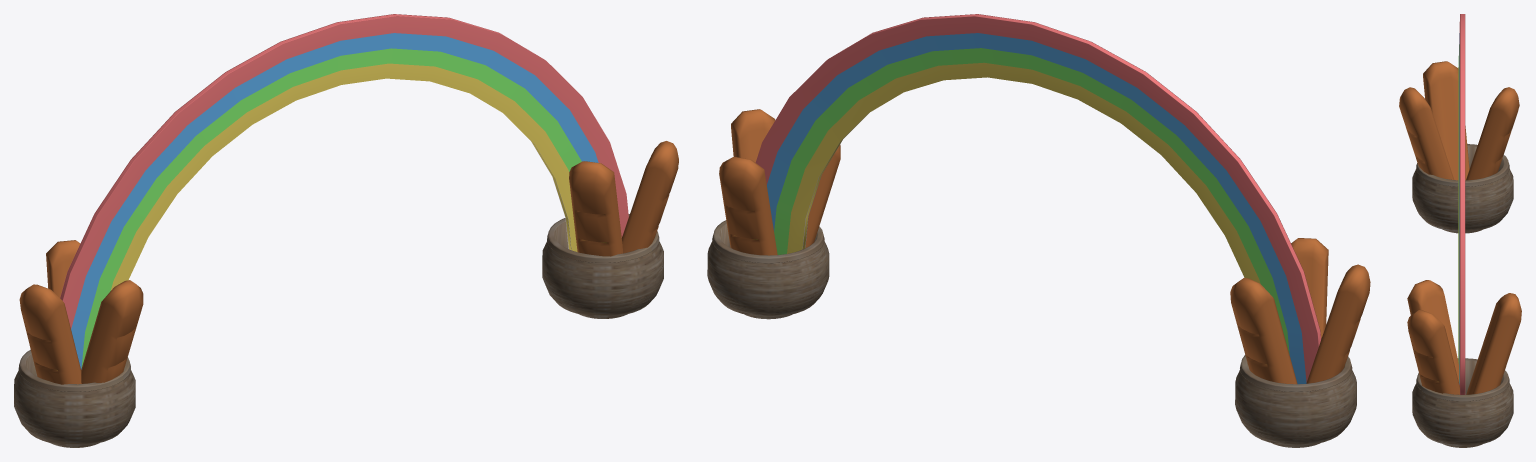
The model's file is gapura low poly.fbx.
The picture shows the model from 3 angles, left to right: view 1: azimuth 30°, elevation 25°; view 2: azimuth 150°, elevation 25°; view 3: azimuth 270°, elevation 25°; orthographic projection. The views are drawn at different scales.
Parts seen in each view (by area): view 1: Cylinder.004, Cylinder.001, Cylinder, Cube.001, Cube.003, Cube.002, Cube.004, Cube.005; view 2: Cylinder.004, Cylinder.001, Cylinder, Cube.006, Cube.005, Cube.001, Cube.002, Cube.004, Cube.003; view 3: Cylinder.001, Cylinder, Cube.004, Cylinder.004, Cube.006, Cube.001, Cube.002, Cube.005, Cube.003.
Part boxes in pixels (x1,y1,x2,y2): Cylinder.004: (60, 14, 628, 369); Cylinder.001: (542, 214, 663, 318); Cylinder: (14, 350, 135, 447); Cube.001: (19, 284, 81, 384); Cube.003: (569, 161, 622, 256); Cube.002: (81, 280, 143, 383); Cube.004: (622, 141, 678, 253); Cube.005: (46, 240, 80, 297); Cylinder.004: (755, 14, 1321, 384); Cylinder.001: (707, 220, 829, 319); Cylinder: (1235, 355, 1356, 447); Cube.006: (719, 157, 777, 255); Cube.005: (1230, 277, 1297, 384); Cube.001: (1306, 264, 1370, 383); Cube.002: (1291, 238, 1328, 338); Cube.004: (731, 109, 775, 162); Cube.003: (805, 144, 840, 247); Cylinder.001: (1412, 358, 1513, 447); Cylinder: (1412, 144, 1513, 233); Cube.004: (1407, 310, 1459, 394); Cylinder.004: (1458, 14, 1465, 394); Cube.006: (1466, 293, 1521, 394); Cube.001: (1423, 61, 1469, 180); Cube.002: (1399, 87, 1454, 179); Cube.005: (1466, 87, 1519, 180); Cube.003: (1407, 280, 1458, 381).
Bounding box in the file's own units: 1877 × 966 × 372.
2 materials, 1 textured.
